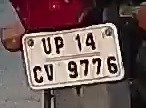1: (75, 33, 83, 53)
4: (85, 31, 96, 51)
6: (105, 55, 117, 74)
7: (91, 56, 103, 76), (80, 59, 89, 76)
9: (67, 60, 78, 79)
C: (30, 63, 46, 86)
P: (54, 38, 66, 56)
U: (42, 38, 53, 57)
V: (43, 63, 54, 81)
